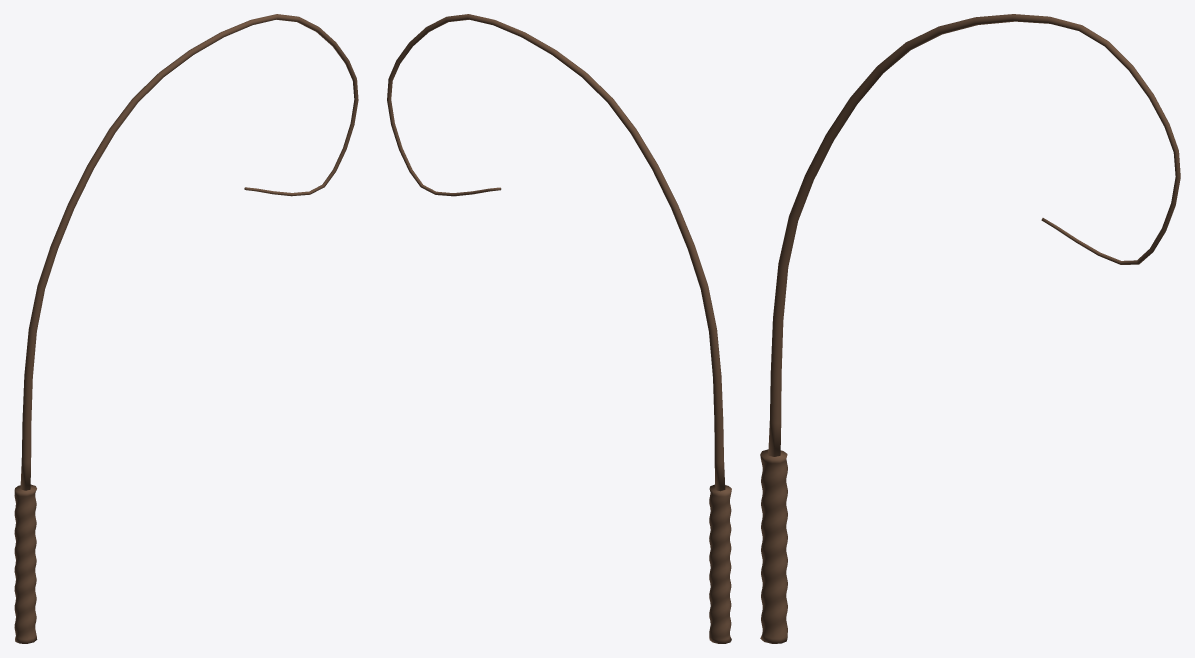
The model's file is whip.glb.
The picture shows the model from 3 angles, left to right: view 1: azimuth 30°, elevation 25°; view 2: azimuth 150°, elevation 25°; view 3: azimuth 330°, elevation 25°; orthographic projection. The views are drawn at different scales.
Parts seen in each view (by area): view 1: whip; view 2: whip; view 3: whip.
Boxes of the visible parts, <box> form: whip: <box>14,14,358,643</box>; whip: <box>387,14,731,643</box>; whip: <box>760,14,1180,643</box>.
Bounding box in the file's own units: 1.09 × 1.72 × 0.0547.
